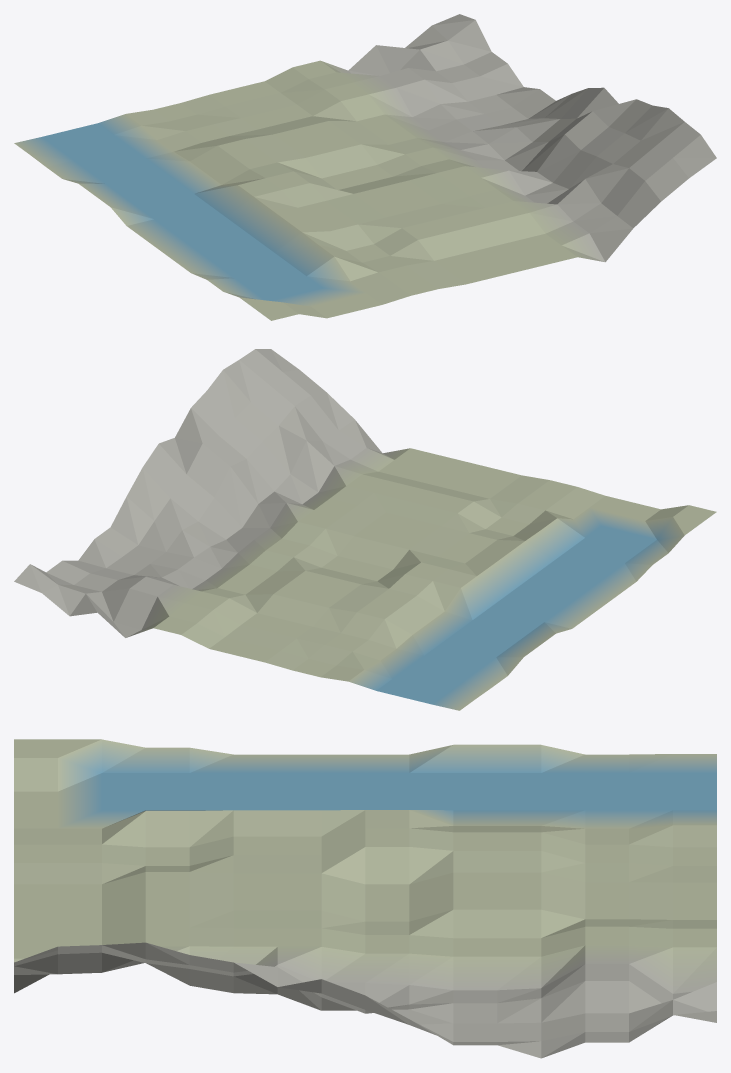
The picture shows the model from 3 angles, top to bottom: view 1: azimuth 30°, elevation 25°; view 2: azimuth 150°, elevation 25°; view 3: azimuth 270°, elevation 25°; orthographic projection. The views are drawn at different scales.
Bounding box in the file's own units: 32 × 6.31 × 32.
